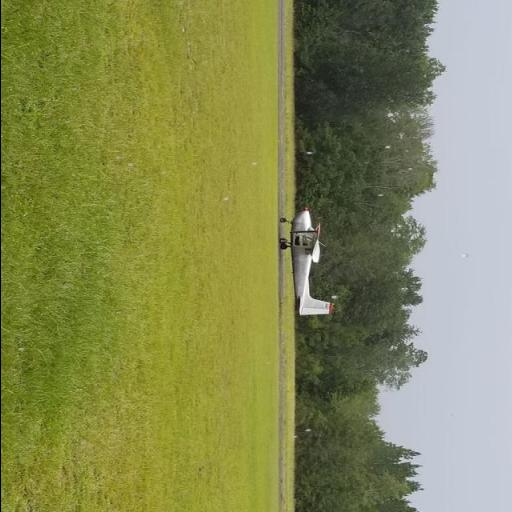uav: (274, 202, 338, 320)
